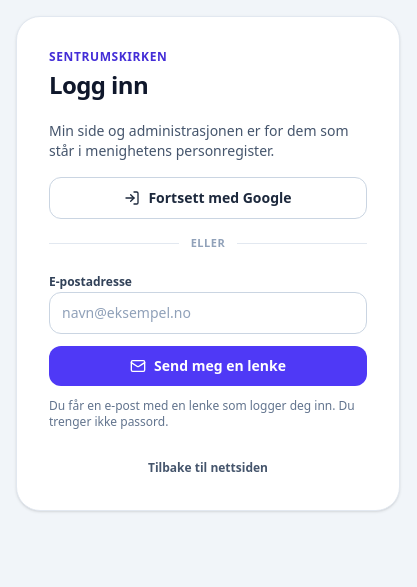
Test: Innloggingssiden › Google-knappen logger inn med Google, og en feil sies under knappene
What coordinates should you click on to do the following:
click the button "Fortsett med Google"
I would click on:
 (208, 198)
Its box is [49,177,367,219].
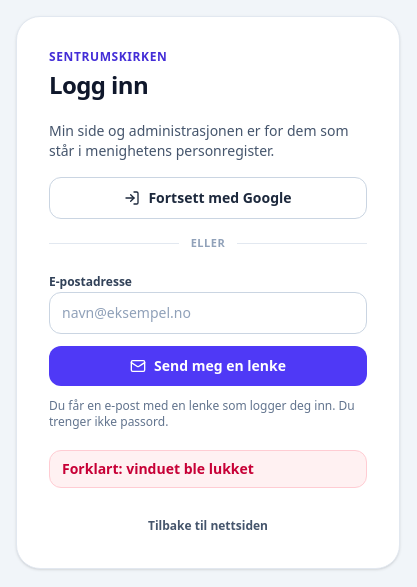
Expected: the message reads "Forklart: vinduet ble lukket", [62,458,254,478]
